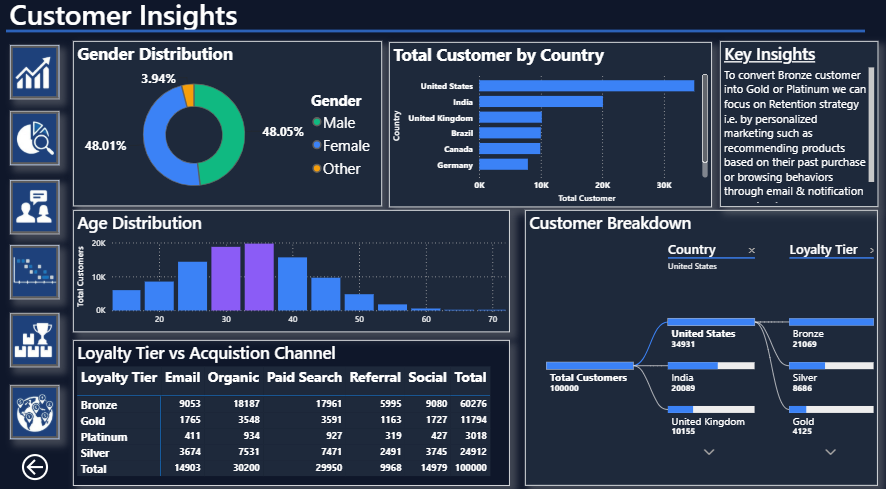

The dashboard page shown, as its layout file describes it:
{"tool":"powerbi","page":{"name":"Customer Insights","canvas":[1280,720],"ordinal":3},"visuals":[{"type":"textbox","title":"Customer Insights","box":[10.1,0,384.5,51.8],"z":0},{"type":"shape","box":[10.1,44.6,1237,14.4],"z":1000},{"type":"donutChart","title":"Gender Distribution","fields":{"Category":["customers.gender"],"Y":["Count(customers.customer_id)"]},"box":[106,66.1,444.6,238.1],"z":2000},{"type":"clusteredBarChart","fields":{"Category":["customers.country"],"Y":["Count(customers.customer_id)"]},"box":[561.5,67.4,465.2,238.1],"z":3000},{"type":"clusteredColumnChart","title":"Age Distribution","fields":{"Category":["customers.age (bins)"],"Y":["CountNonNull(customers.customer_id)"]},"box":[106.6,309.6,629.3,175.7],"z":4000},{"type":"pivotTable","title":"Loyalty Tier vs Acquistion Channel","fields":{"Columns":["customers.acquisition_channel"],"Rows":["customers.loyalty_tier"],"Values":["CountNonNull(customers.customer_id)"]},"box":[106.6,496.8,629.3,210.2],"z":5000},{"type":"decompositionTreeVisual","title":"Customer Breakdown","fields":{"Analyze":["Count(customers.customer_id)"],"ExplainBy":["customers.country","customers.loyalty_tier"]},"box":[757.4,309.6,508.3,397.4],"z":6000},{"type":"shape","box":[15.8,72,70.6,74.9],"z":7000},{"type":"shape","box":[15.8,169.9,70.6,74.9],"z":8000},{"type":"shape","box":[15.8,266.4,70.6,74.9],"z":9000},{"type":"shape","box":[15.8,360,70.6,74.9],"z":10000},{"type":"shape","box":[15.8,459.4,70.6,74.9],"z":11000},{"type":"shape","box":[15.8,564.5,70.6,74.9],"z":12000},{"type":"image","box":[15.8,73.4,70.6,74.9],"z":13000},{"type":"image","box":[15.8,169.9,70.6,74.9],"z":14000},{"type":"image","box":[15.8,266.4,70.6,74.9],"z":15000},{"type":"image","box":[15.8,360,70.6,74.9],"z":16000},{"type":"image","box":[15.8,459.4,70.6,74.9],"z":17000},{"type":"image","box":[15.8,564.5,70.6,74.9],"z":18000},{"type":"actionButton","box":[15.8,72,70.6,77.8],"z":19000},{"type":"actionButton","box":[15.8,167,70.6,77.8],"z":20000},{"type":"actionButton","box":[15.8,266.4,70.6,77.8],"z":21000},{"type":"actionButton","box":[15.8,360,70.6,77.8],"z":22000},{"type":"actionButton","box":[15.8,457.9,70.6,77.8],"z":23000},{"type":"actionButton","box":[15.8,561.6,70.6,77.8],"z":24000},{"type":"actionButton","box":[27.4,652.3,49,54.7],"z":25000},{"type":"textbox","title":"Key Insights","box":[1038.2,66.2,227.5,239],"z":26000}]}

Visuals, with their boxes on the page's 1280x720 design canvas (x1, y1, x2, y2). These are canvas units, not pixel positions in the 886x489 screenshot, which may show the page scaled, cropped or inside an application window:
"Customer Insights" textbox: {"left": 10, "top": 0, "right": 395, "bottom": 52}
shape: {"left": 10, "top": 45, "right": 1247, "bottom": 59}
"Gender Distribution" donutChart: {"left": 106, "top": 66, "right": 551, "bottom": 304}
clusteredBarChart - customers.country x Count(customers.customer_id): {"left": 562, "top": 67, "right": 1027, "bottom": 306}
"Age Distribution" clusteredColumnChart: {"left": 107, "top": 310, "right": 736, "bottom": 485}
"Loyalty Tier vs Acquistion Channel" pivotTable: {"left": 107, "top": 497, "right": 736, "bottom": 707}
"Customer Breakdown" decompositionTreeVisual: {"left": 757, "top": 310, "right": 1266, "bottom": 707}
shape: {"left": 16, "top": 72, "right": 86, "bottom": 147}
shape: {"left": 16, "top": 170, "right": 86, "bottom": 245}
shape: {"left": 16, "top": 266, "right": 86, "bottom": 341}
shape: {"left": 16, "top": 360, "right": 86, "bottom": 435}
shape: {"left": 16, "top": 459, "right": 86, "bottom": 534}
shape: {"left": 16, "top": 564, "right": 86, "bottom": 639}
image: {"left": 16, "top": 73, "right": 86, "bottom": 148}
image: {"left": 16, "top": 170, "right": 86, "bottom": 245}
image: {"left": 16, "top": 266, "right": 86, "bottom": 341}
image: {"left": 16, "top": 360, "right": 86, "bottom": 435}
image: {"left": 16, "top": 459, "right": 86, "bottom": 534}
image: {"left": 16, "top": 564, "right": 86, "bottom": 639}
actionButton: {"left": 16, "top": 72, "right": 86, "bottom": 150}
actionButton: {"left": 16, "top": 167, "right": 86, "bottom": 245}
actionButton: {"left": 16, "top": 266, "right": 86, "bottom": 344}
actionButton: {"left": 16, "top": 360, "right": 86, "bottom": 438}
actionButton: {"left": 16, "top": 458, "right": 86, "bottom": 536}
actionButton: {"left": 16, "top": 562, "right": 86, "bottom": 639}
actionButton: {"left": 27, "top": 652, "right": 76, "bottom": 707}
"Key Insights" textbox: {"left": 1038, "top": 66, "right": 1266, "bottom": 305}
